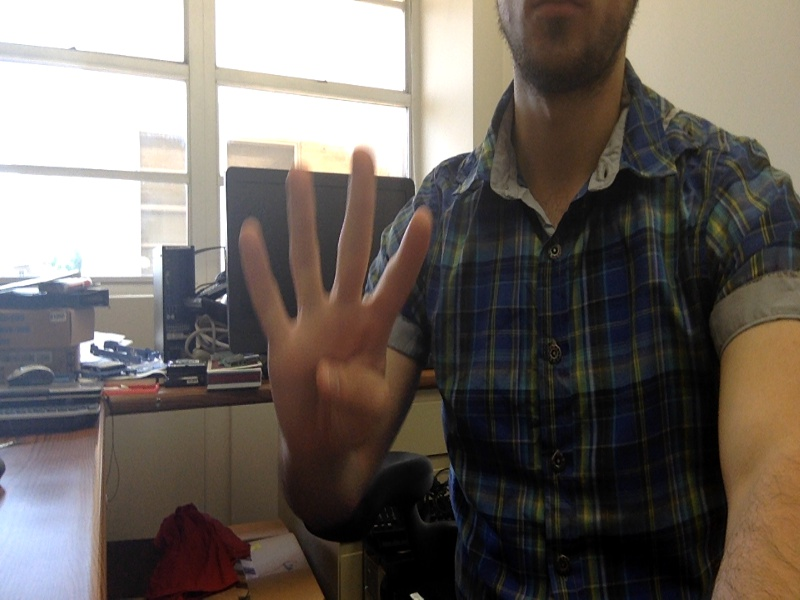4-hand: (239, 150, 437, 484)
